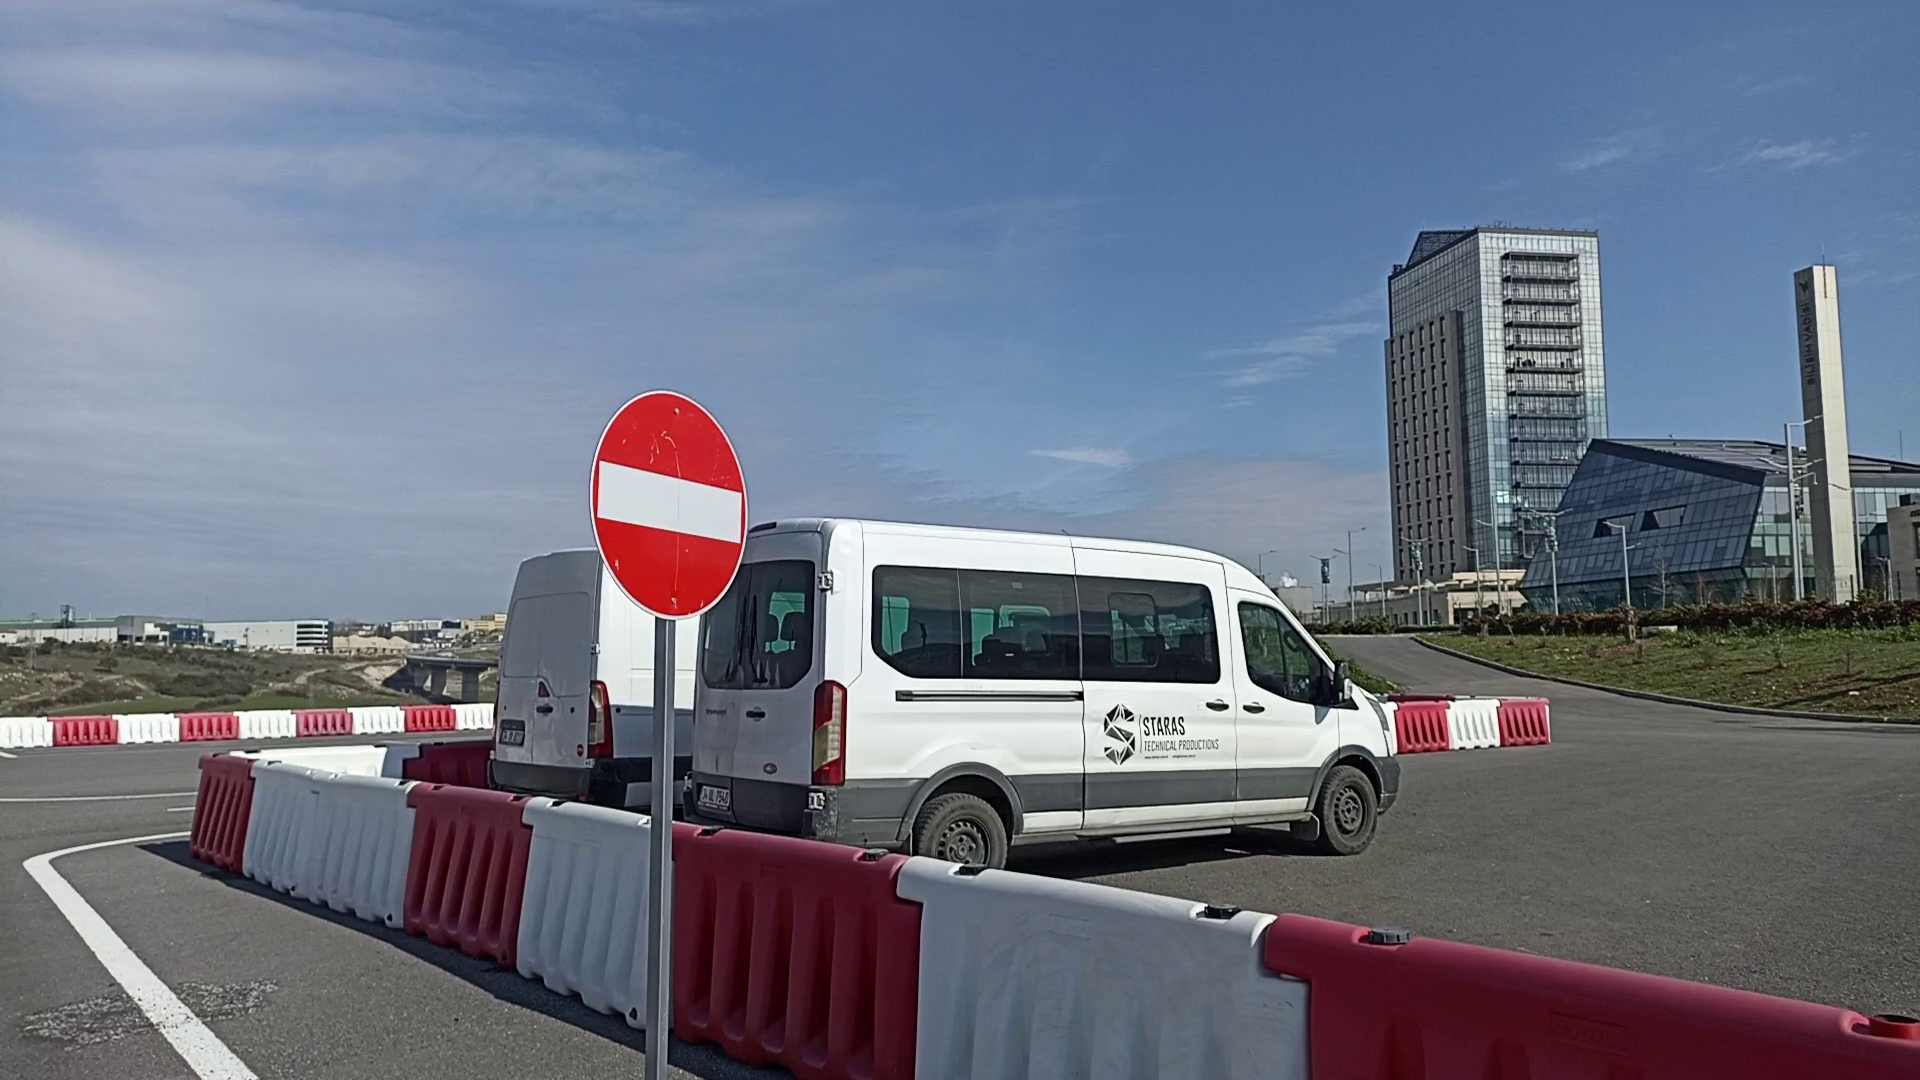noentryway: (585, 386, 753, 622)
